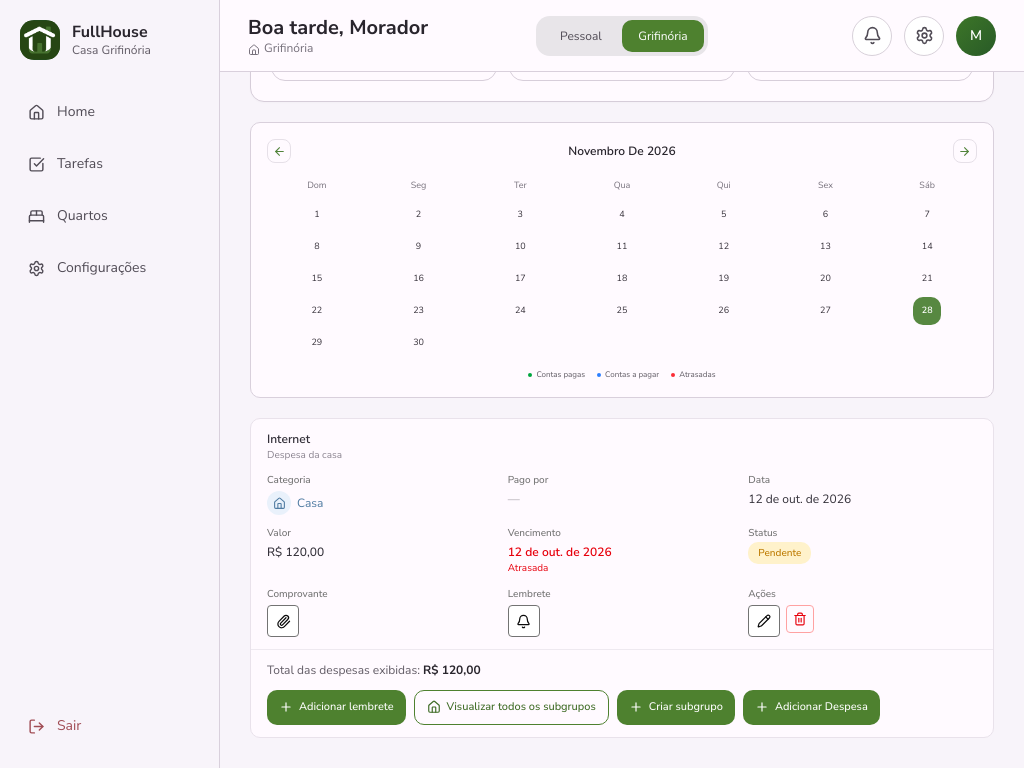
Scenario: FinancePage expense CRUD › confirms deletion and removes the expense from the active list
(page scrolled)
Click the button named "Excluir Internet". click: click(800, 619)
box: left=786, top=605, right=814, bottom=633
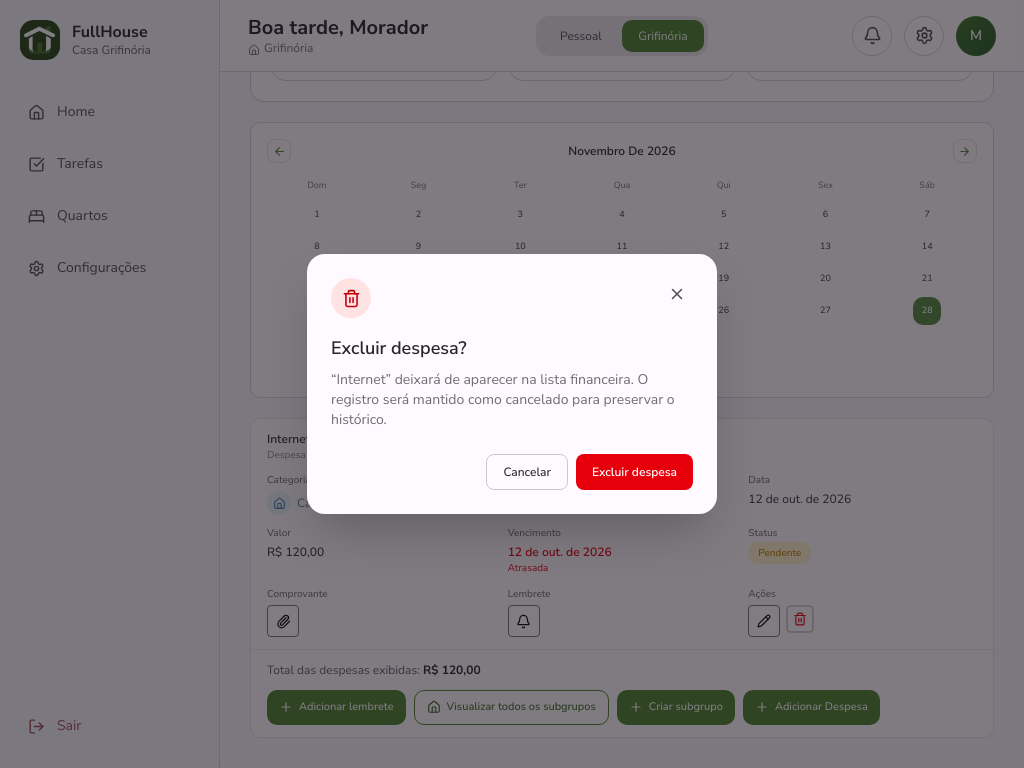
Result: the dialog shows "Internet" at left=336, top=370, right=386, bottom=389
Click the button "Excluir despesa". click: click(634, 472)
box: left=576, top=454, right=693, bottom=490
(page scrolled)
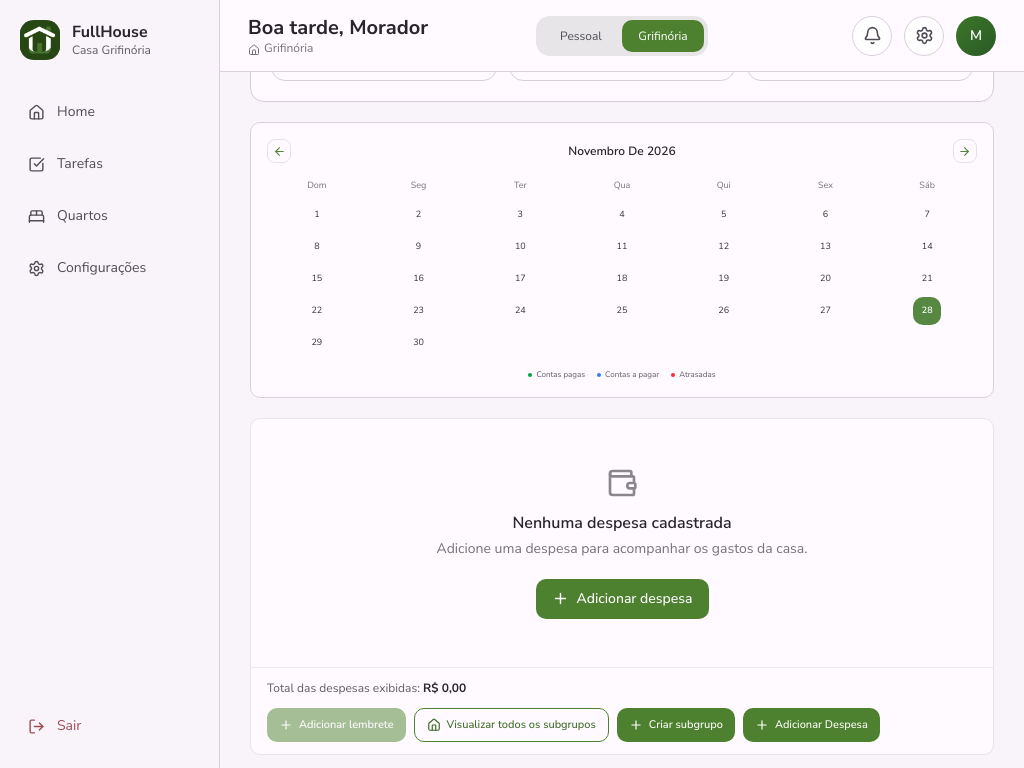
Result: the heading "Nenhuma despesa cadastrada" is shown at left=512, top=512, right=732, bottom=534
